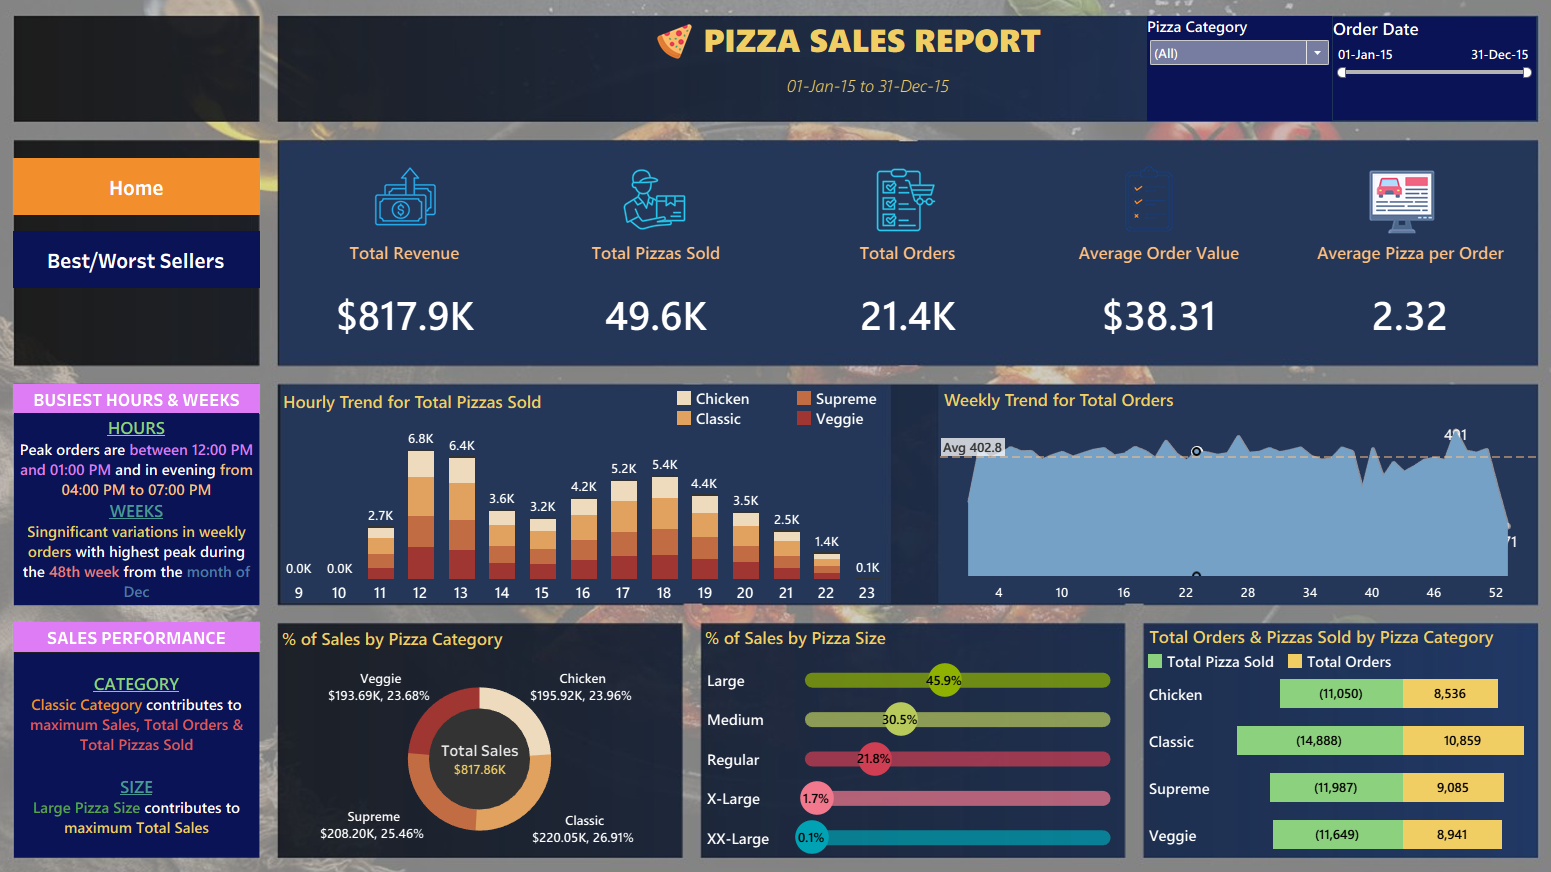

The page's visual inventory and layout, read from the dashboard file:
{"tool":"tableau","page":{"name":"Home","canvas":[1600,900],"ordinal":1},"visuals":[{"type":"image","param":"Image/Pizza Background 1.jpg","box":[8,8,1584,884]},{"type":"text","box":[724,23,351,60]},{"type":"filter","title":"Hourly Trend for Total Pizzas Sold","param":"[federated.1m8ibaf0xhspzc12ix3xg0qr1awt].[none:pizza_category:nk]","box":[1171,29,185,105]},{"type":"filter","title":"Hourly Trend for Total Pizzas Sold","param":"[federated.1m8ibaf0xhspzc12ix3xg0qr1awt].[none:order_date:qk]","box":[1357,30,203,103]},{"type":"image","param":"Image/pizza-slice.png","box":[678,36,40,36]},{"type":"worksheet","title":"Date Range","mark":"Automatic","box":[690,78,403,42]},{"type":"dashboard-object","box":[37,171,247,57]},{"type":"image","param":"Image/profit-growth.png","box":[376,174,106,70]},{"type":"image","param":"Image/test.png","box":[1137,177,72,69]},{"type":"image","param":"Image/delivery-man.png","box":[638,180,81,64]},{"type":"image","param":"Image/order-delivery.png","box":[893,180,73,65]},{"type":"image","param":"Image/monitor.png","box":[1391,181,70,67]},{"type":"worksheet","title":"KPI Banner","mark":"Automatic","box":[303,237,1257,139]},{"type":"dashboard-object","box":[37,244,247,57]},{"type":"text","box":[37,397,247,30]},{"type":"worksheet","title":"Weekly Trend for Total Orders","mark":"Area","rows":["Calculation_1257067251942297602","Calculation_1257067251942297602"],"cols":["order_date"],"box":[964,397,596,219]},{"type":"worksheet","title":"Hourly Trend for Total Pizzas Sold","mark":"Bar","rows":["Calculation_1257067251942117377","Calculation_1257067251942117377"],"cols":["order_time"],"box":[303,399,609,217]},{"type":"legend","title":"Hourly Trend for Total Pizzas Sold","param":"[federated.1m8ibaf0xhspzc12ix3xg0qr1awt].[none:pizza_category:nk]","box":[698,401,247,50]},{"type":"text","box":[38,426,245,192]},{"type":"text","box":[1170,634,391,30]},{"type":"text","box":[37,635,247,30]},{"type":"worksheet","title":"% of Sales by Pizza Size","mark":"Line","rows":["pizza_size"],"box":[725,635,424,235]},{"type":"worksheet","title":"% of Sales by Pizza Category","mark":"Pie","rows":["Calculation_599541707596582913","Calculation_599541707596619779"],"box":[302,636,403,234]},{"type":"legend","title":"Total Orders & Pizzas Sold by Pizza Category","param":"[federated.1m8ibaf0xhspzc12ix3xg0qr1awt].[:Measure Names]","box":[1169,664,392,20]},{"type":"text","box":[38,666,245,204]},{"type":"worksheet","title":"Total Orders & Pizzas Sold by Pizza Category","mark":"Automatic","rows":["pizza_category"],"box":[1167,683,395,188]}]}

Visuals, with their boxes in screenshot pixels (x1, y1, x2, y2), scaled from the page's 1600x900 canvas onto the 1551x872 screenshot:
image: region(8, 8, 1543, 864)
text: region(702, 22, 1042, 80)
"Hourly Trend for Total Pizzas Sold" filter: region(1135, 28, 1314, 130)
"Hourly Trend for Total Pizzas Sold" filter: region(1315, 29, 1512, 129)
image: region(657, 35, 696, 70)
"Date Range" worksheet: region(669, 76, 1060, 116)
dashboard-object: region(36, 166, 275, 221)
image: region(364, 169, 467, 236)
image: region(1102, 171, 1172, 238)
image: region(618, 174, 697, 236)
image: region(866, 174, 936, 237)
image: region(1348, 175, 1416, 240)
"KPI Banner" worksheet: region(294, 230, 1512, 364)
dashboard-object: region(36, 236, 275, 292)
text: region(36, 385, 275, 414)
"Weekly Trend for Total Orders" worksheet (Area marks): region(934, 385, 1512, 597)
"Hourly Trend for Total Pizzas Sold" worksheet (Bar marks): region(294, 387, 884, 597)
"Hourly Trend for Total Pizzas Sold" legend: region(677, 389, 916, 437)
text: region(37, 413, 274, 599)
text: region(1134, 614, 1513, 643)
text: region(36, 615, 275, 644)
"% of Sales by Pizza Size" worksheet (Line marks): region(703, 615, 1114, 843)
"% of Sales by Pizza Category" worksheet (Pie marks): region(293, 616, 683, 843)
"Total Orders & Pizzas Sold by Pizza Category" legend: region(1133, 643, 1513, 663)
text: region(37, 645, 274, 843)
"Total Orders & Pizzas Sold by Pizza Category" worksheet: region(1131, 662, 1514, 844)
